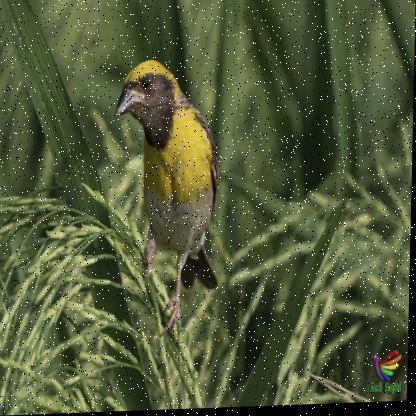Burung: (112, 59, 221, 340)
